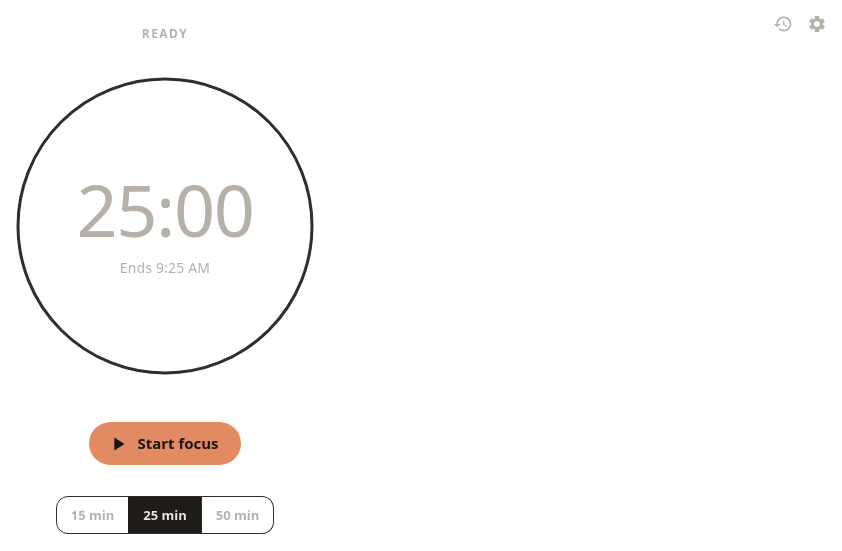
it: ZenFocusTimer › changes the planned duration with a quick preset
The image size is (842, 551).
Click the button "50 min".
click(238, 515)  # box [201,496,274,534]
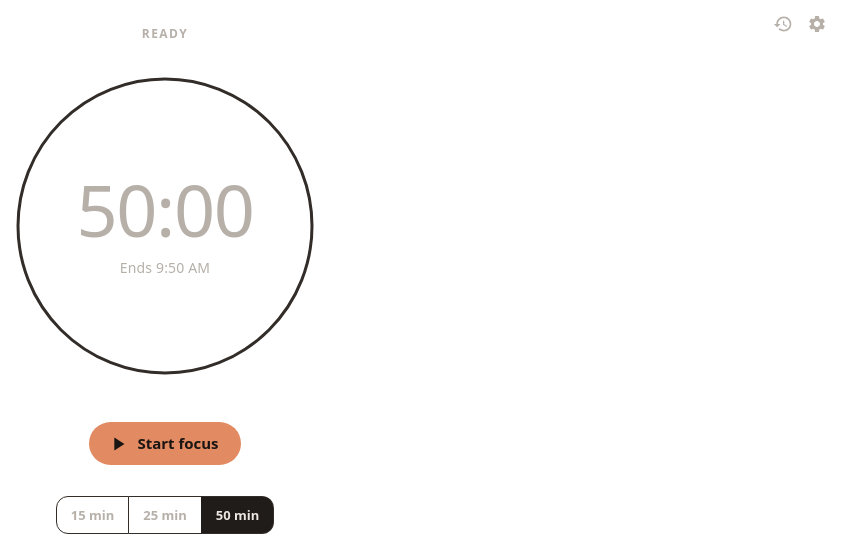
Check: the button "Start focus" is shown, box [89,422,241,465]
Check: the text "50:00" is shown, box [77,173,253,245]
